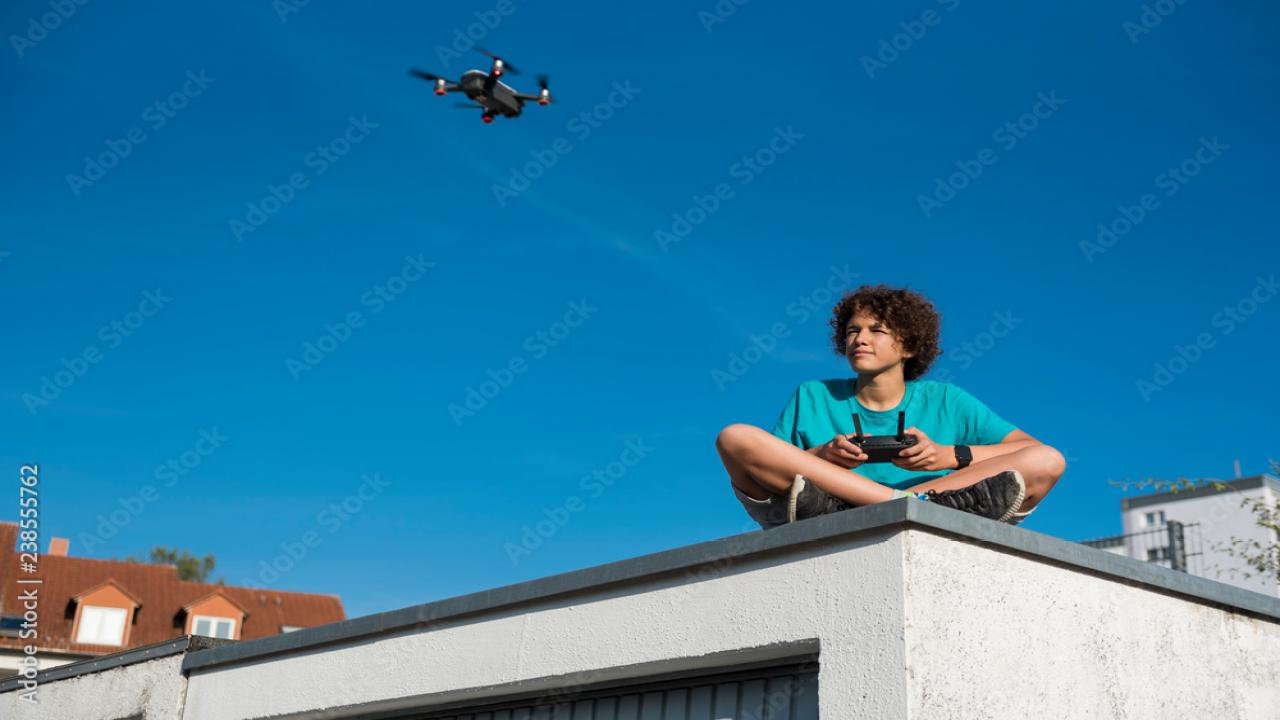Drone: (385, 31, 570, 135)
